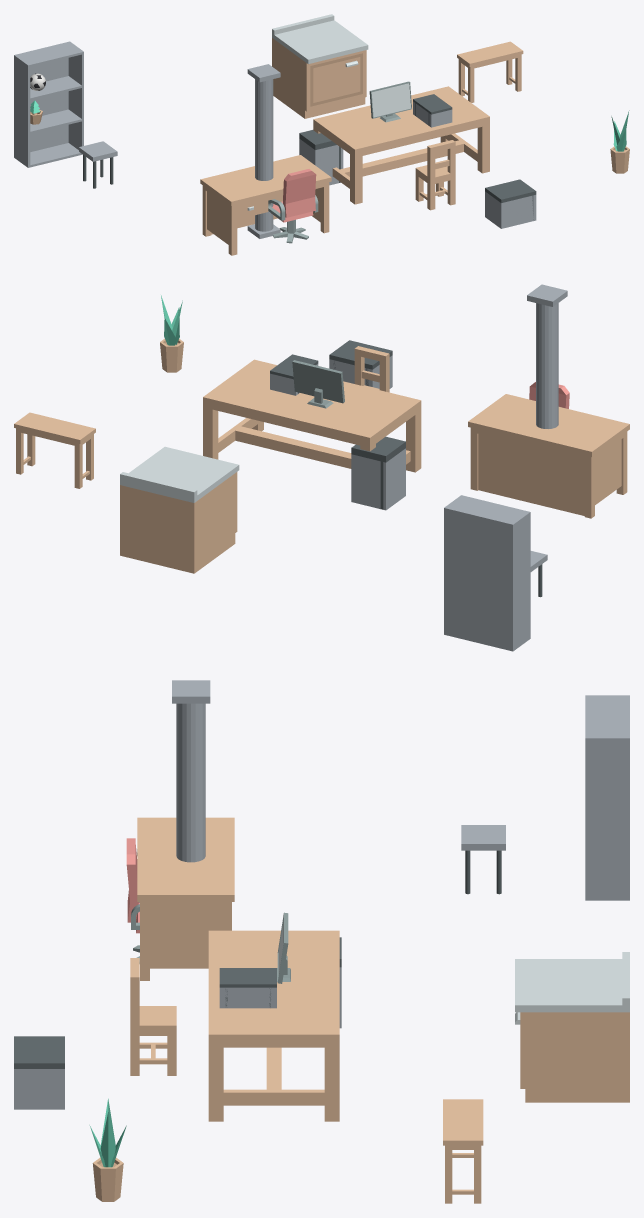
3 views of the same model, one above another, from view 1: azimuth 30°, elevation 25°; view 2: azimuth 150°, elevation 25°; view 3: azimuth 270°, elevation 25° (orthographic). The views are drawn at different scales.
Parts seen in each view (by area): view 1: table_green__table(Clone), cabinet_blue__kitchenCabinet(Clone), desk_blue__desk(Clone), column_cyan__column_cyan shaft, cabinet_blue__door, chair_cyan__chair(Clone), shelf_orange__shelf_orange back, sidetable_brown__sideTable(Clone), deskchair_black__chair, shelf_orange__shelf_orange side_l, crate_red__crate_red shell, monitor_gray__computerScreen(Clone) (+15 smaller); view 2: desk_blue__desk(Clone), table_green__table(Clone), cabinet_blue__kitchenCabinet(Clone), shelf_orange__shelf_orange back, sidetable_brown__sideTable(Clone), column_cyan__column_cyan shaft, shelf_orange__shelf_orange side_l, bin_gray__bin_gray shell, monitor_gray__computerScreen(Clone), chair_cyan__chair(Clone), shelf_orange__shelf_orange board3, bin_gray__bin_gray lid (+5 smaller); view 3: table_green__table(Clone), cabinet_blue__kitchenCabinet(Clone), desk_blue__desk(Clone), shelf_orange__shelf_orange side_r, column_cyan__column_cyan shaft, sidetable_brown__sideTable(Clone), chair_cyan__chair(Clone), crate_red__crate_red shell, shelf_orange__shelf_orange board3, crate_red__crate_red lid, case_brown__case_brown shell, stool_purple__stool_purple seat (+5 smaller).
Part boxes in pixels (x1,y1,x2,y2): table_green__table(Clone): (313, 86, 489, 204); cabinet_blue__kitchenCabinet(Clone): (272, 14, 368, 118); desk_blue__desk(Clone): (200, 155, 331, 255); column_cyan__column_cyan shaft: (255, 79, 273, 231); cabinet_blue__door: (310, 53, 362, 106); chair_cyan__chair(Clone): (415, 140, 455, 210); shelf_orange__shelf_orange back: (16, 42, 68, 151); sidetable_brown__sideTable(Clone): (457, 41, 523, 102); deskchair_black__chair: (268, 169, 318, 222); shelf_orange__shelf_orange side_l: (14, 54, 30, 167); crate_red__crate_red shell: (485, 191, 536, 228); monitor_gray__computerScreen(Clone): (369, 81, 411, 122); desk_blue__desk(Clone): (468, 394, 629, 518); table_green__table(Clone): (203, 359, 421, 472); cabinet_blue__kitchenCabinet(Clone): (120, 446, 239, 573); shelf_orange__shelf_orange back: (446, 508, 510, 650); sidetable_brown__sideTable(Clone): (14, 412, 95, 488); column_cyan__column_cyan shaft: (536, 303, 558, 428); shelf_orange__shelf_orange side_l: (510, 511, 530, 651); bin_gray__bin_gray shell: (351, 448, 405, 510); monitor_gray__computerScreen(Clone): (292, 360, 344, 408); chair_cyan__chair(Clone): (354, 346, 389, 392); shelf_orange__shelf_orange board3: (448, 496, 527, 523); bin_gray__bin_gray lid: (351, 436, 405, 462); table_green__table(Clone): (208, 930, 339, 1121); cabinet_blue__kitchenCabinet(Clone): (515, 952, 629, 1102); desk_blue__desk(Clone): (137, 817, 234, 980); shelf_orange__shelf_orange side_r: (585, 737, 629, 900); column_cyan__column_cyan shaft: (176, 703, 205, 862); sidetable_brown__sideTable(Clone): (443, 1099, 483, 1203); chair_cyan__chair(Clone): (130, 958, 176, 1075); crate_red__crate_red shell: (14, 1069, 64, 1109); shelf_orange__shelf_orange board3: (585, 697, 627, 736); crate_red__crate_red lid: (14, 1036, 64, 1068); case_brown__case_brown shell: (219, 987, 276, 1008); stool_purple__stool_purple seat: (461, 825, 505, 850).
Size of the model in its own units: 6.43 by 2.2 by 4.82.
